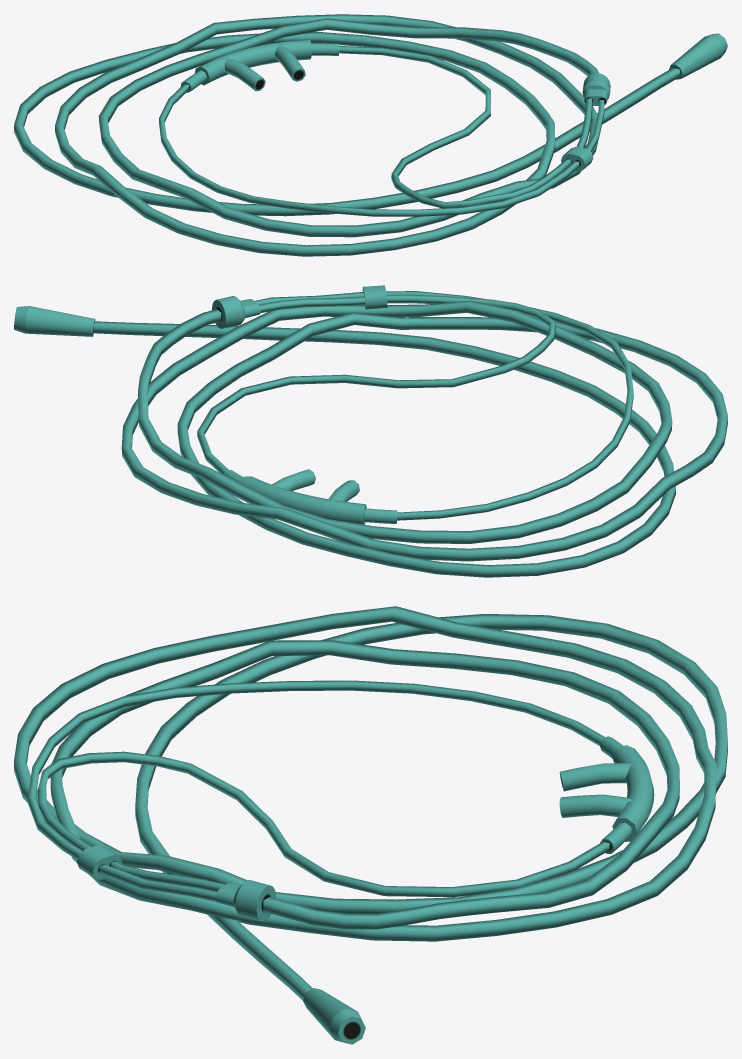
Rendered from SM_Nasal_Cannula_Coiled.glb.
The picture shows the model from 3 angles, top to bottom: view 1: azimuth 30°, elevation 25°; view 2: azimuth 150°, elevation 25°; view 3: azimuth 270°, elevation 25°; orthographic projection. The views are drawn at different scales.
Visible parts, largest first — view 1: SM_Nasal_Cannula_Coiled; view 2: SM_Nasal_Cannula_Coiled; view 3: SM_Nasal_Cannula_Coiled.
Part boxes in pixels (x1,y1,x2,y2): SM_Nasal_Cannula_Coiled: [14, 14, 727, 256]; SM_Nasal_Cannula_Coiled: [14, 285, 727, 577]; SM_Nasal_Cannula_Coiled: [14, 606, 727, 1044].
Bounding box in the file's own units: 0.245 × 0.0163 × 0.1759.
Materials: 1 (1 with a texture image).
